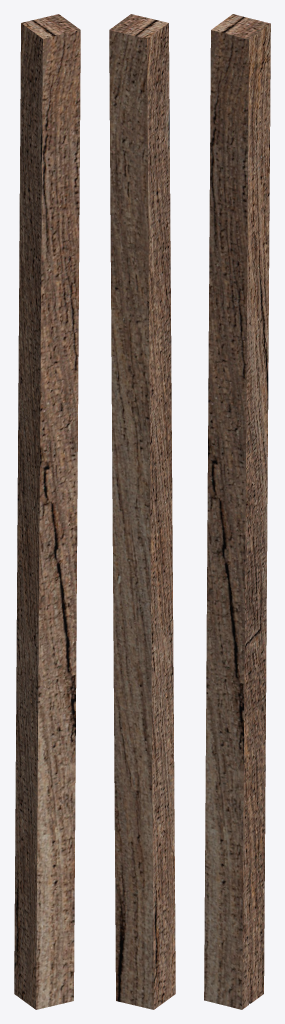
Rendered from woooooden_pillar_model.fbx.
The picture shows the model from 3 angles, left to right: view 1: azimuth 30°, elevation 25°; view 2: azimuth 150°, elevation 25°; view 3: azimuth 330°, elevation 25°; orthographic projection.
Visible parts, largest first — view 1: Cube; view 2: Cube; view 3: Cube.
Boxes of the visible parts, x1,y1,x2,y2 form: Cube: (14,14,80,1009); Cube: (109,14,175,1009); Cube: (204,14,270,1009).
Size of the model in its own units: 236 by 4891 by 200.
Materials: 1 (1 with a texture image).
